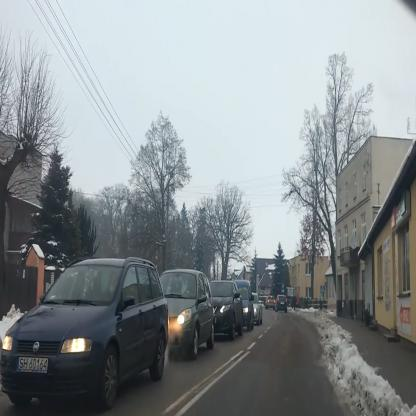cars: (1, 257, 168, 412), (157, 268, 215, 357), (207, 277, 244, 342), (231, 279, 255, 332), (250, 292, 262, 326), (275, 295, 288, 314), (265, 296, 276, 310)
